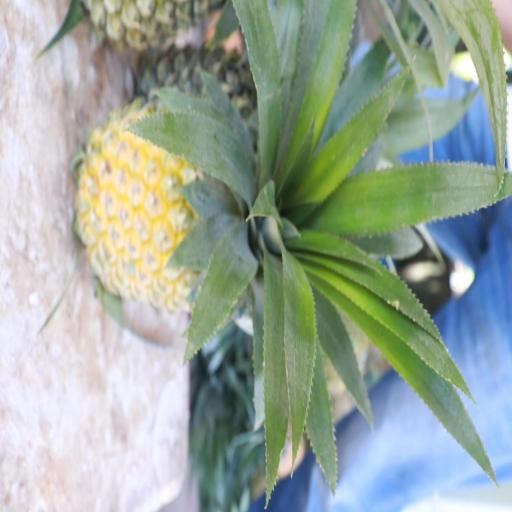Pineapple - v8 v1: (78, 97, 310, 312)
